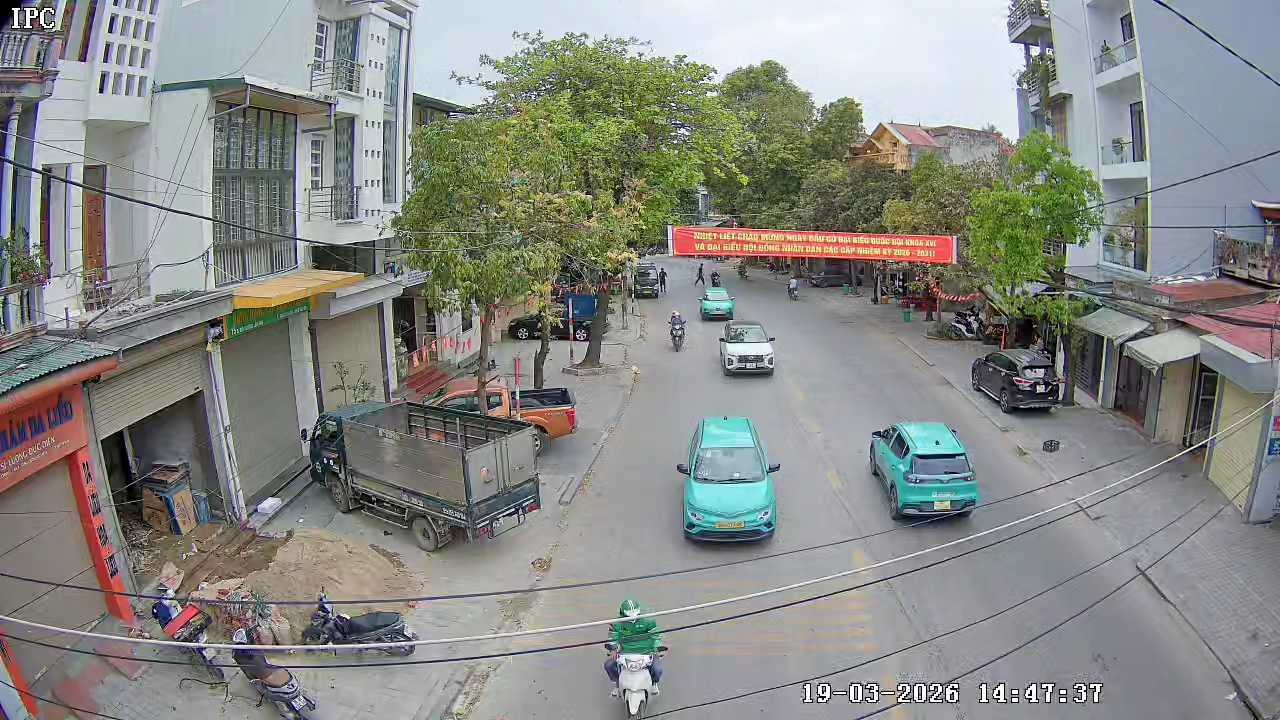car: (675, 413, 781, 544), (869, 420, 979, 524), (970, 349, 1058, 414), (512, 385, 577, 448), (718, 319, 778, 378), (698, 287, 735, 321), (632, 263, 666, 298)
motorbike: (601, 597, 670, 718), (668, 309, 687, 352)
truck: (298, 384, 543, 550)
